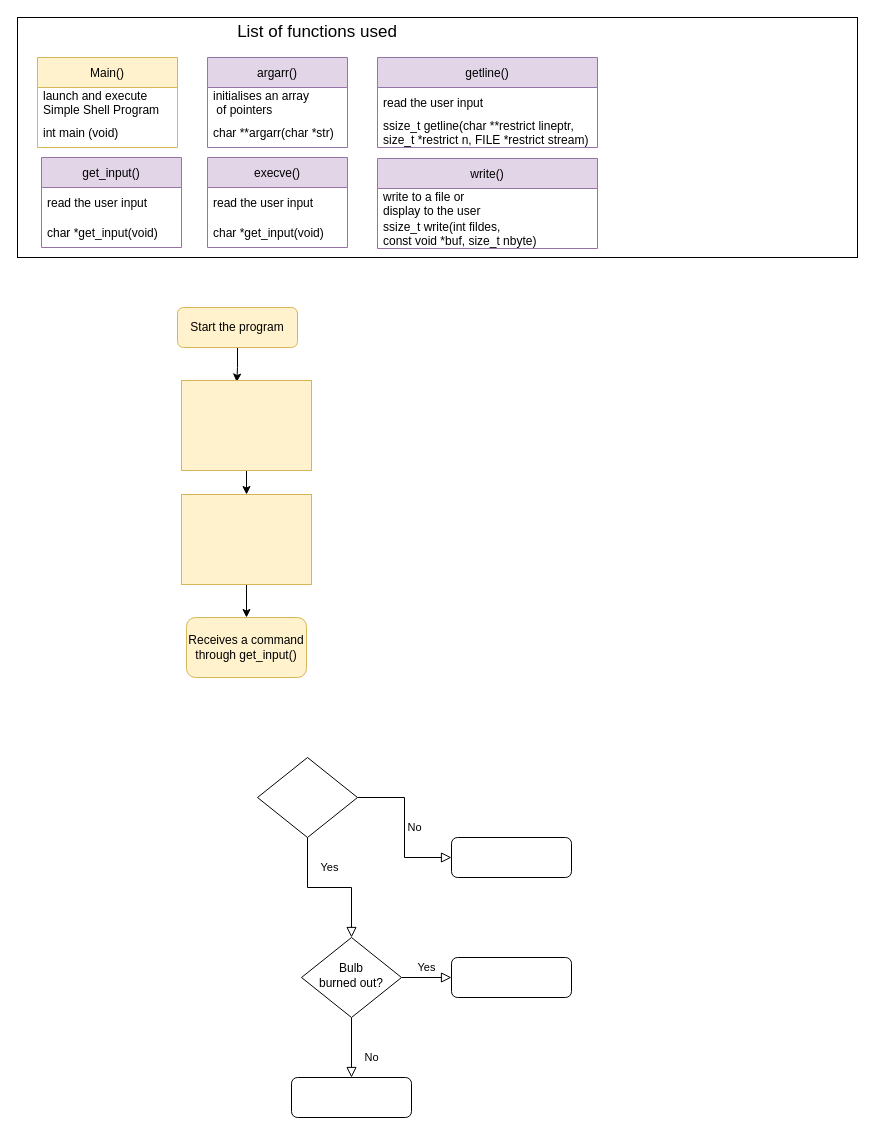
This 875x1135 diagram has some shape labels left out. The centre of each missing label's shape, as x and y in pixels:
Execute the infinite While loop to make sure the input comes from a Terminal: the point at 246,425
Plug in lamp: the point at 511,857
Prompt to the user $ sign to suggest input via the write function: the point at 246,539
Repair Lamp: the point at 351,1097
Replace Bulb: the point at 511,977
